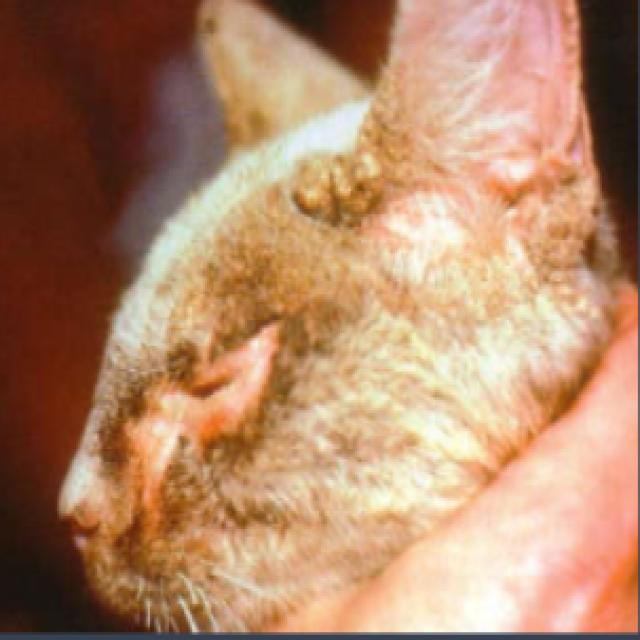ghe: (123, 266, 348, 483)
